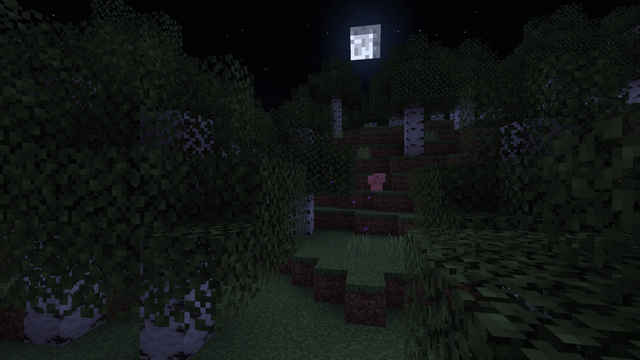cochons: (366, 175, 382, 190)
